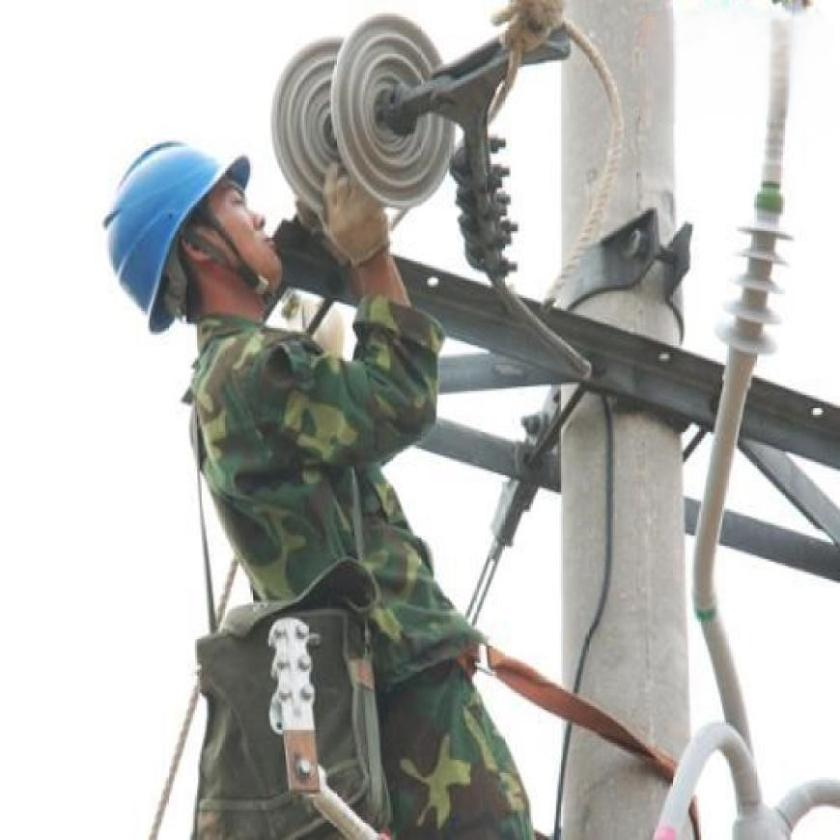Con_casco: (90, 120, 276, 322)
